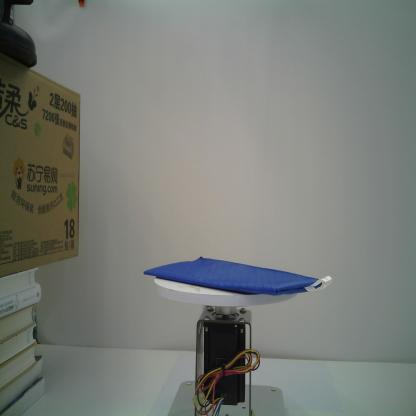Stationery: (139, 255, 334, 302)
